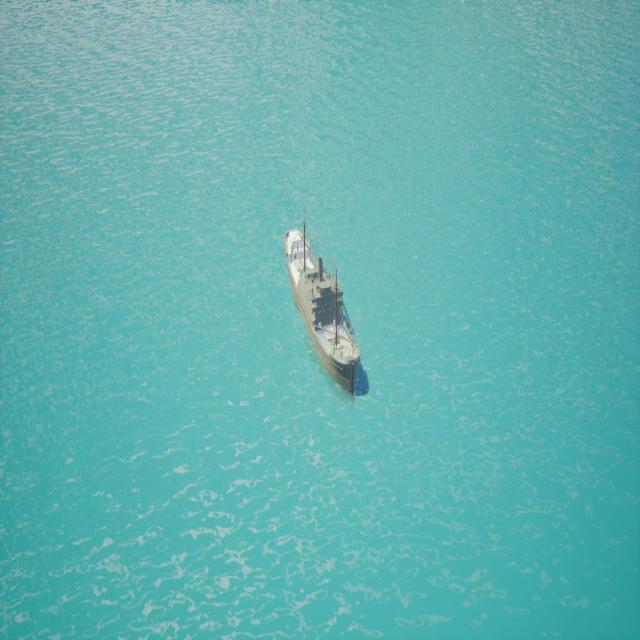fishing ship: (280, 196, 375, 409)
